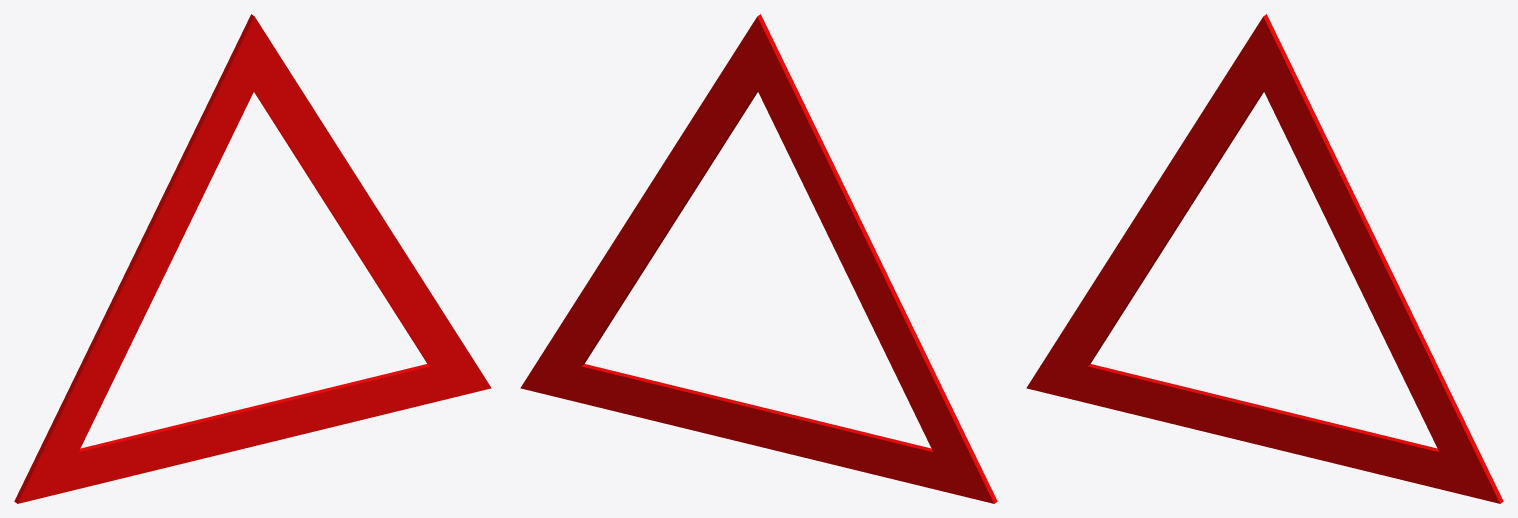
File: gate_triangle_big_red.dae
3 renders of one model, left to right at view 1: azimuth 30°, elevation 25°; view 2: azimuth 150°, elevation 25°; view 3: azimuth 330°, elevation 25°, orthographic.
Parts seen in each view (by area): view 1: Triangle_Big; view 2: Triangle_Big; view 3: Triangle_Big.
Boxes of the visible parts, x1,y1,x2,y2 form: Triangle_Big: (14,14,491,503); Triangle_Big: (520,14,997,503); Triangle_Big: (1026,14,1503,503).
Bounding box in the file's own units: 2.02 × 0.025 × 1.75.
